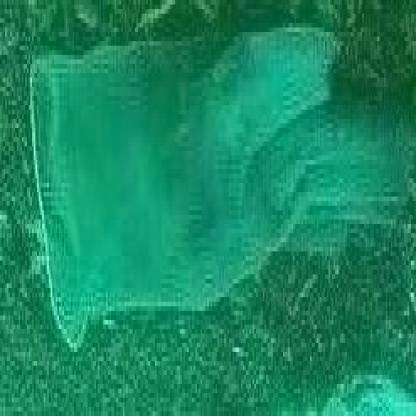glove: (22, 18, 414, 352)
